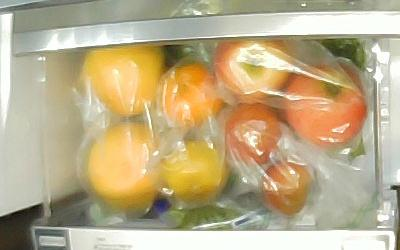apple_vinyl: (283, 66, 367, 147), (214, 39, 294, 104)
grapefruit_vinyl: (87, 121, 159, 207), (82, 44, 164, 116)
persimmon_vinyl: (161, 138, 226, 202), (162, 63, 224, 128)
prune_vinyl: (225, 104, 281, 166), (262, 161, 310, 215)
